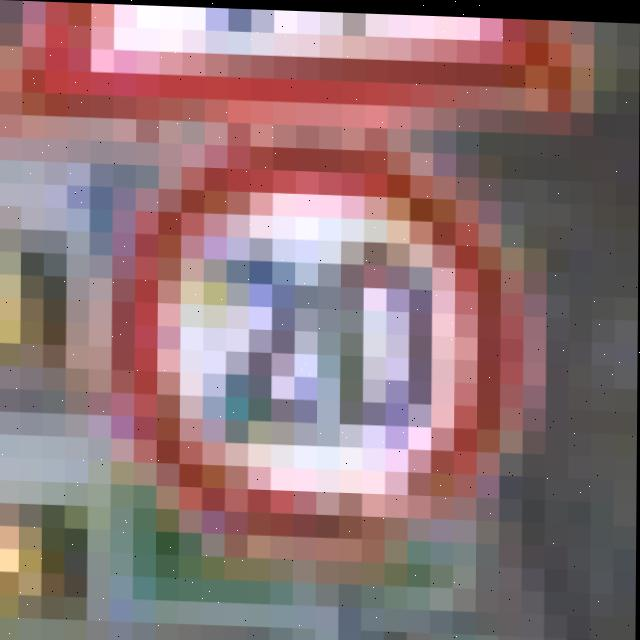speed_limit_20: (120, 129, 544, 564)
